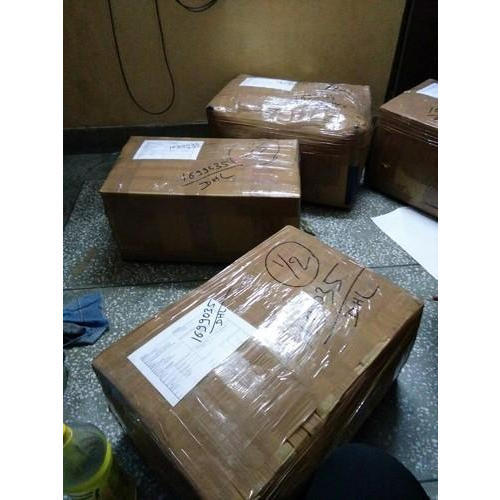Parcel: (88, 225, 426, 500), (99, 136, 299, 196), (202, 70, 371, 128)
